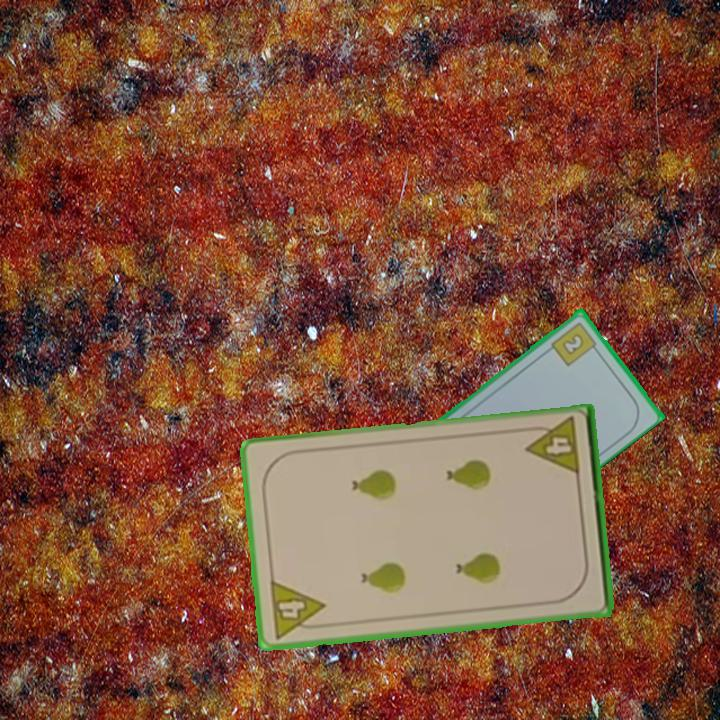2b: (548, 318, 602, 368)
4p: (266, 576, 330, 641), (521, 413, 583, 479)
